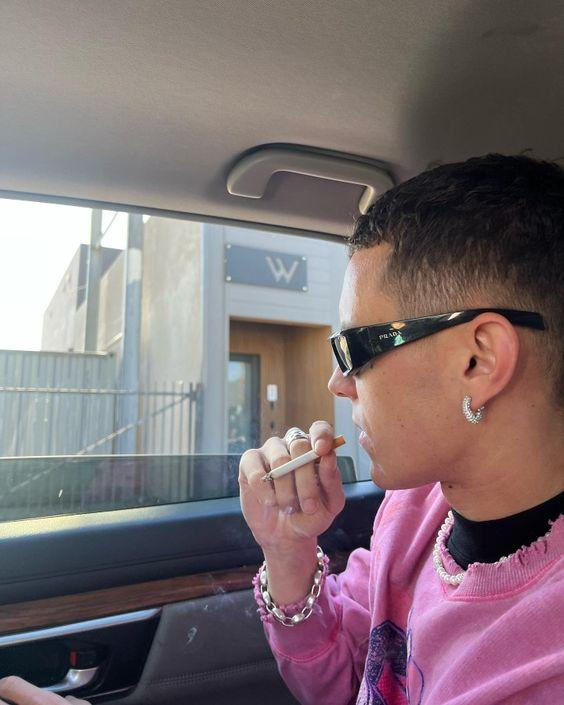cigarette: (262, 435, 346, 482)
